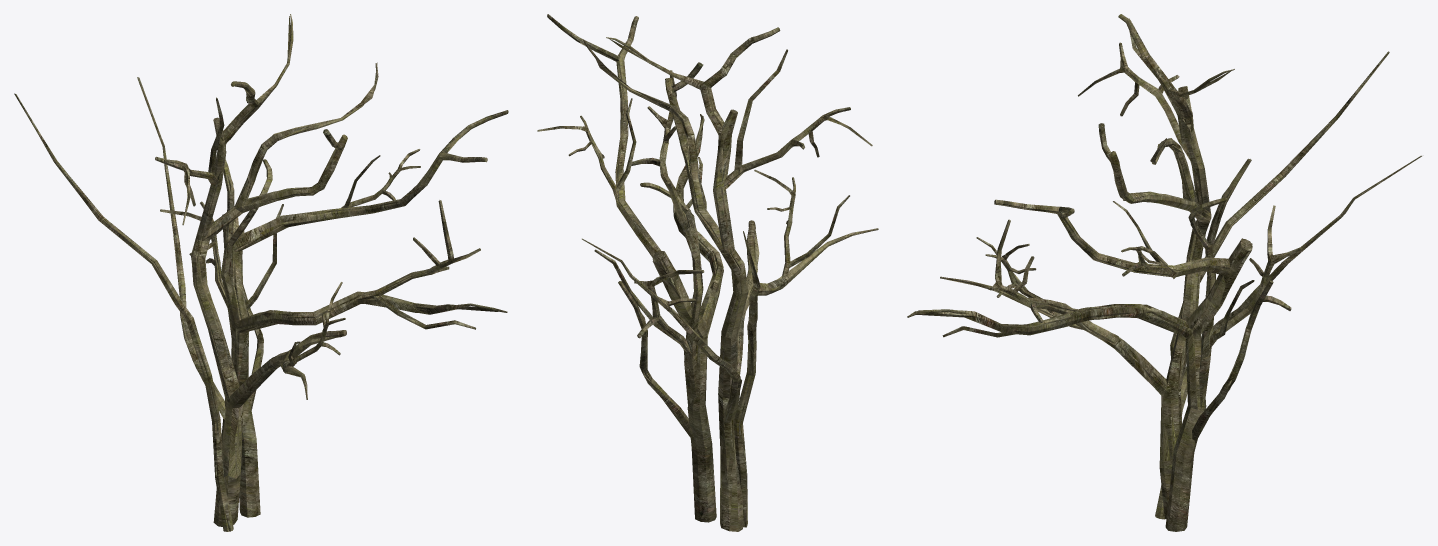
File: 1_TREE_TRUNK_01_4-transformed.glb
The picture shows the model from 3 angles, left to right: view 1: azimuth 30°, elevation 25°; view 2: azimuth 150°, elevation 25°; view 3: azimuth 270°, elevation 25°; orthographic projection. The views are drawn at different scales.
Visible parts, largest first — view 1: default; view 2: default; view 3: default.
Part boxes in pixels (bbox=[...]): default: bbox=[14, 14, 508, 531]; default: bbox=[537, 14, 878, 531]; default: bbox=[907, 14, 1421, 531].
Bounding box in the file's own units: 5.07 × 6.67 × 6.25.
1 material, 1 textured.
